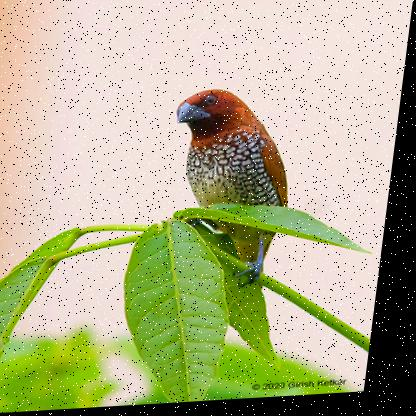Burung: (162, 88, 304, 294)
